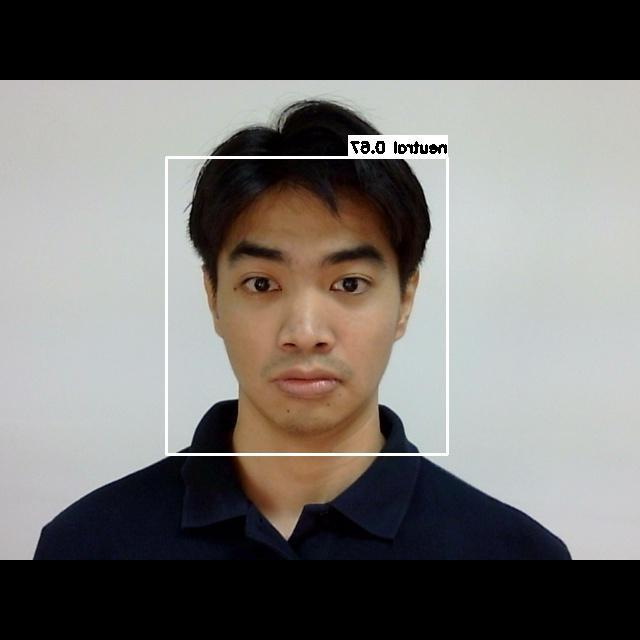Fear: (196, 224, 413, 424)
